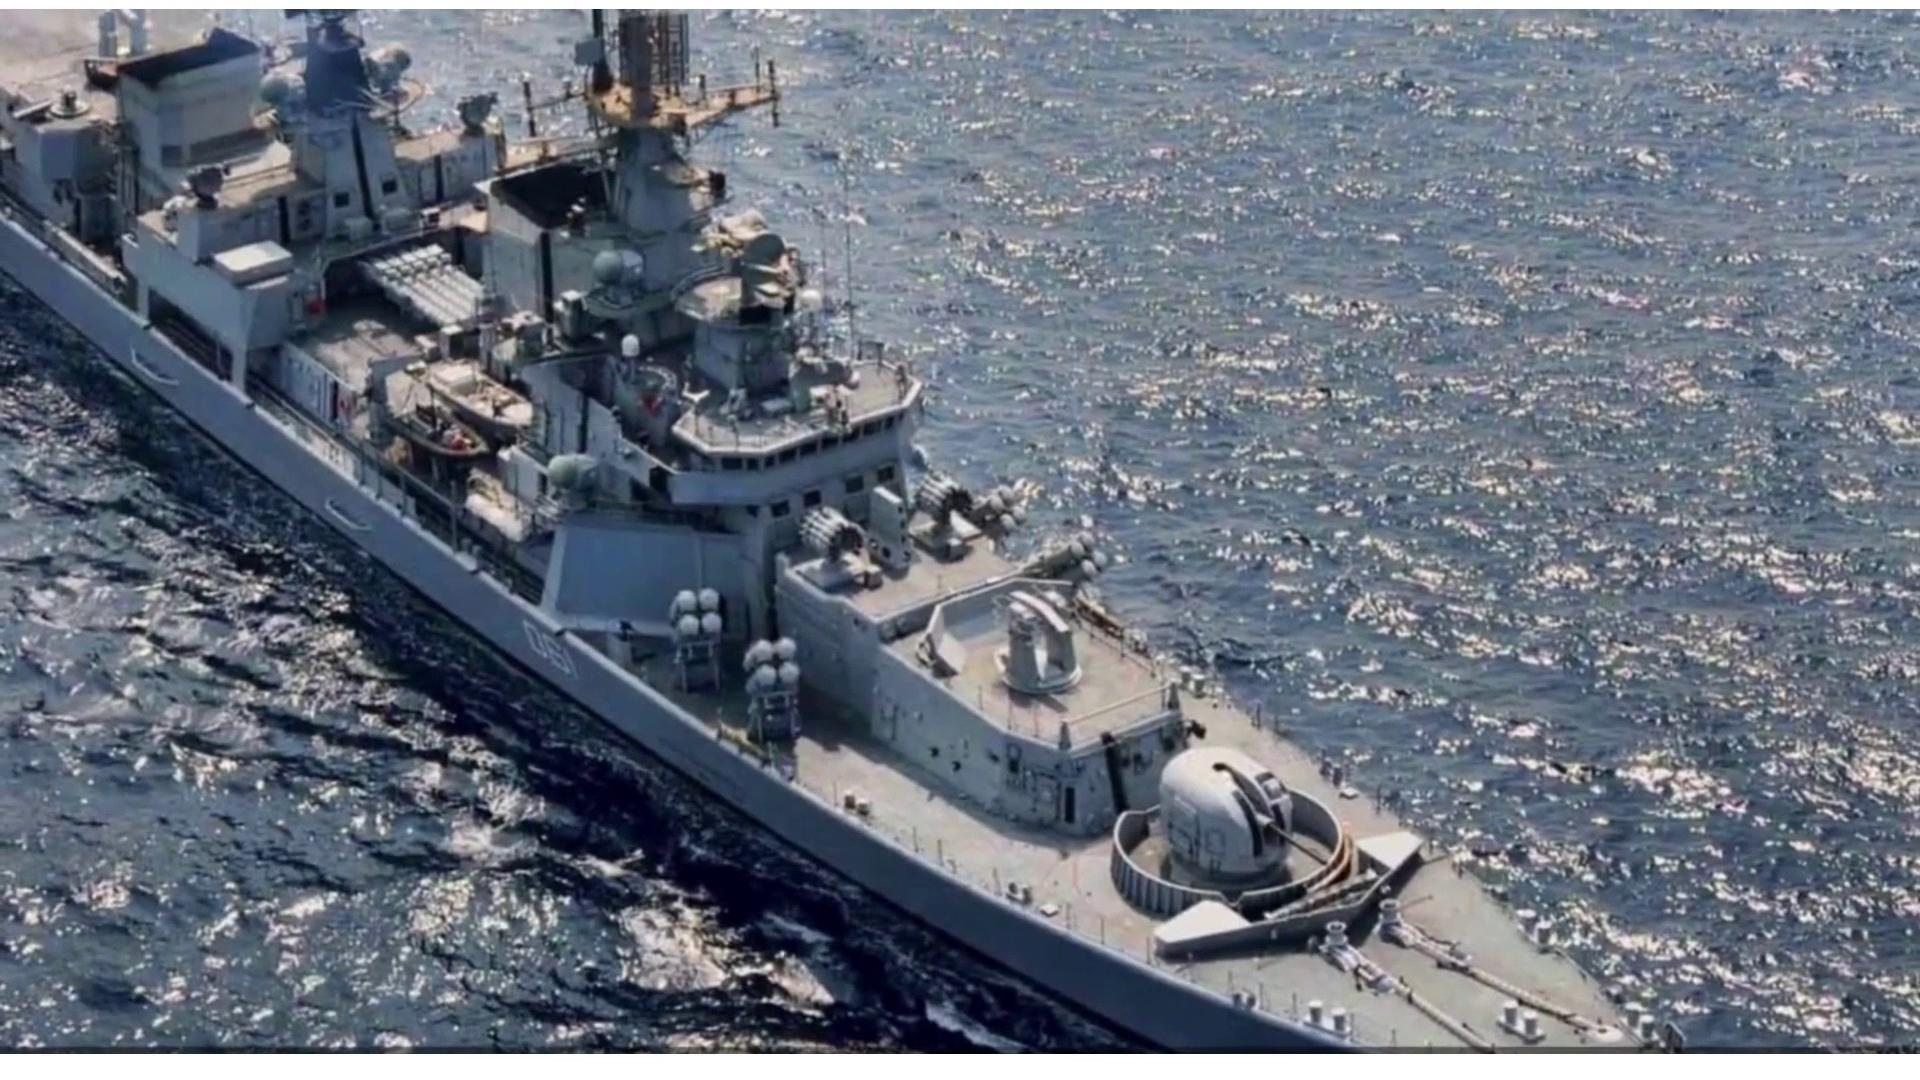OCR: (508, 609, 587, 690)
